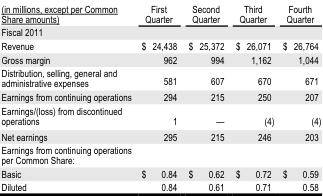table: (0, 1, 320, 193)
table column: (0, 1, 135, 193), (229, 1, 277, 193), (135, 1, 182, 193), (182, 1, 229, 193), (277, 1, 320, 193)
table column header: (0, 1, 320, 24)
table projected row header: (0, 142, 320, 166), (0, 24, 320, 38)
table row: (0, 65, 320, 89), (0, 103, 320, 127), (0, 142, 320, 166), (0, 1, 320, 24), (0, 127, 320, 142), (0, 24, 320, 38), (0, 51, 320, 65), (0, 89, 320, 103), (0, 179, 320, 193), (0, 38, 320, 51), (0, 166, 320, 179)
